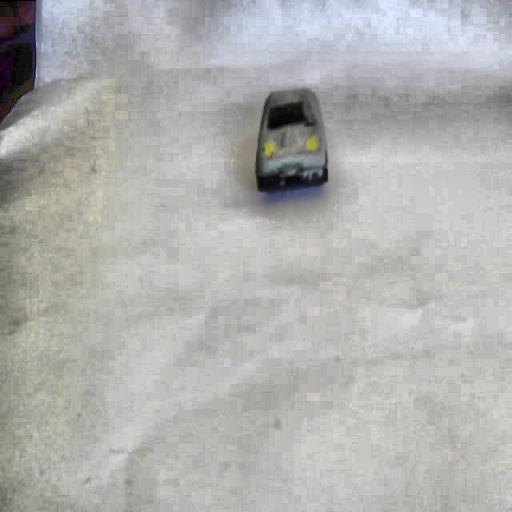normal_car: (252, 86, 331, 192)
